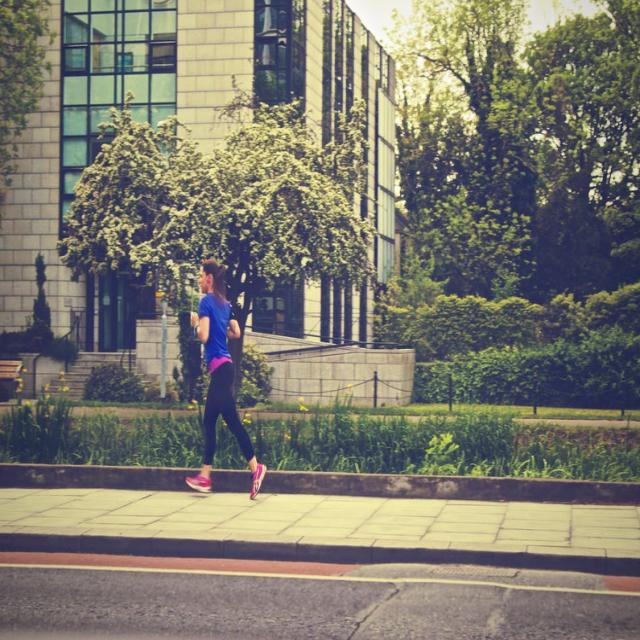running: (184, 255, 268, 500)
